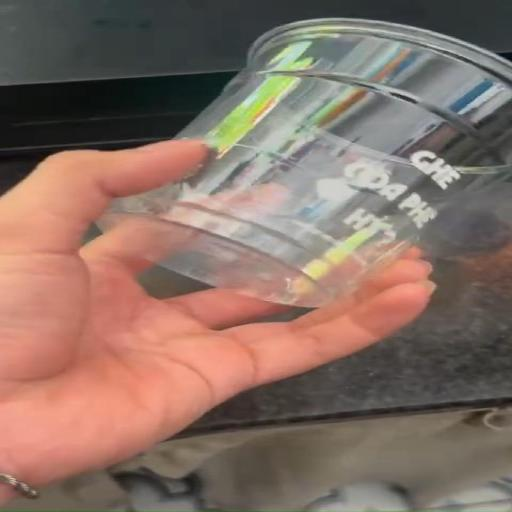ly_giay: (98, 18, 511, 307)
